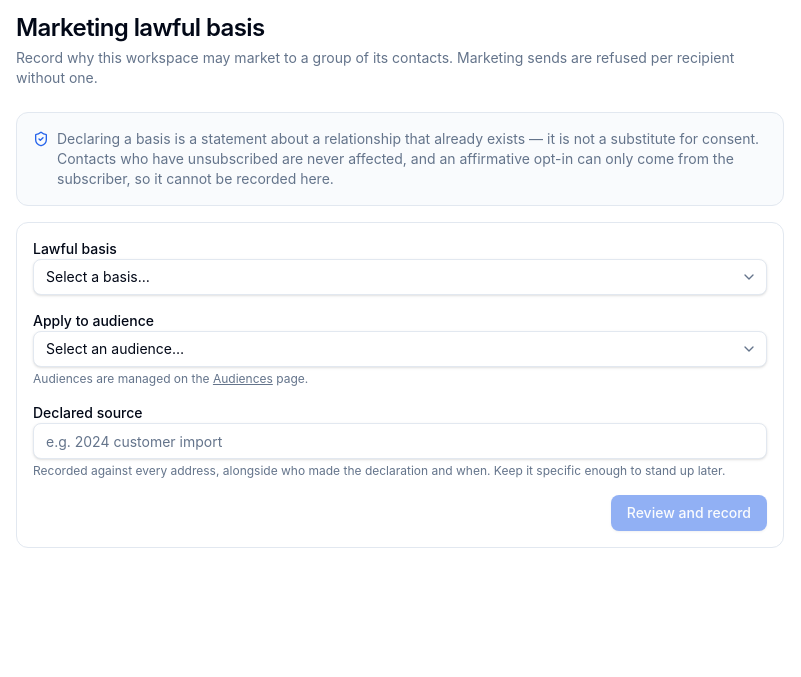
it: MarketingConsentPage form › asks for an expiry only for the CASL implied bases
expect the field labelled "Consent expires" is not shown: met
Step 1. Select "Implied consent — transaction (CASL)" in the dropdown labelled "Lawful basis" → (400, 277), box [33,259,767,295]
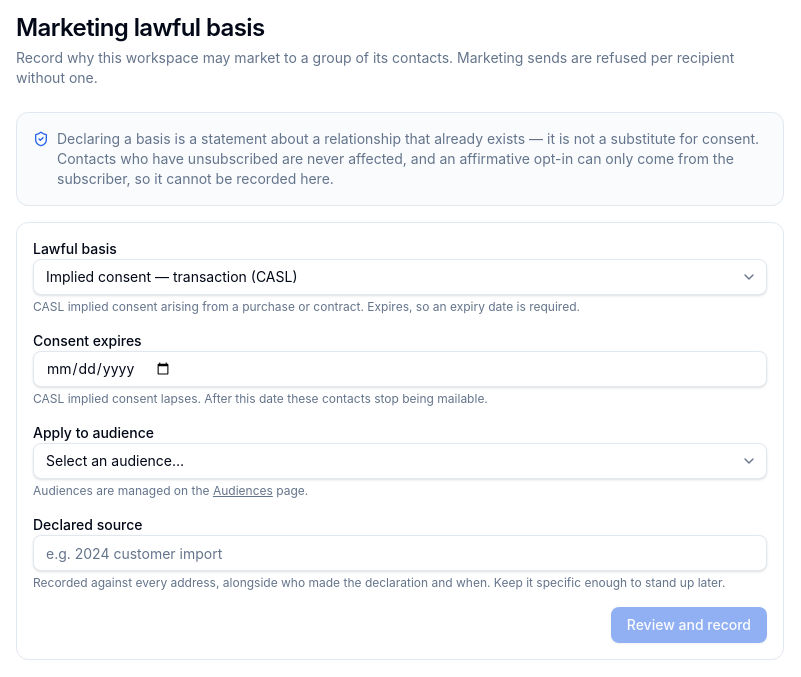
expect the date field labelled "Consent expires" is shown: met, box [33,351,767,387]
Step 2. Select "Existing business relationship" in the dropdown labelled "Lawful basis" → (400, 277), box [33,259,767,295]
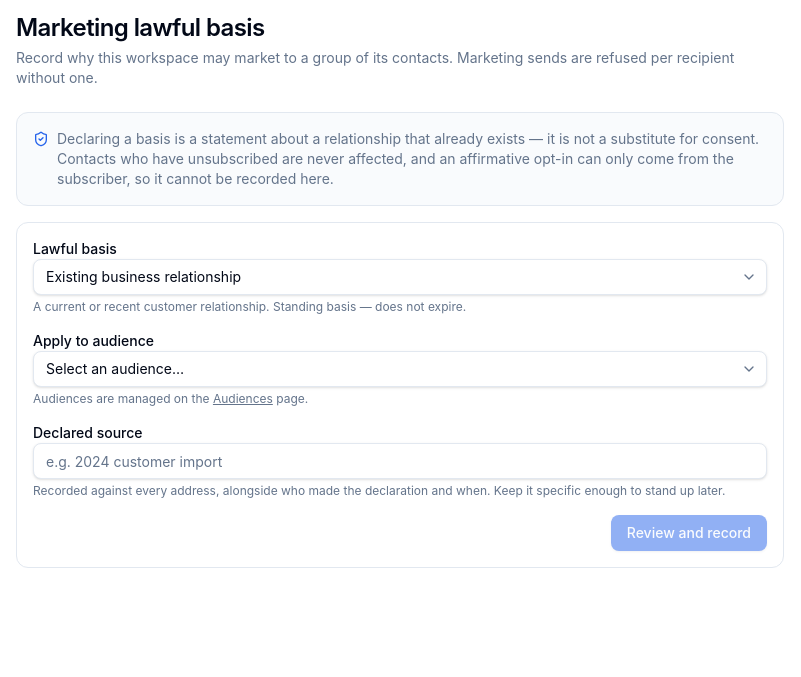
expect the label labelled "Consent expires" is gone: met
